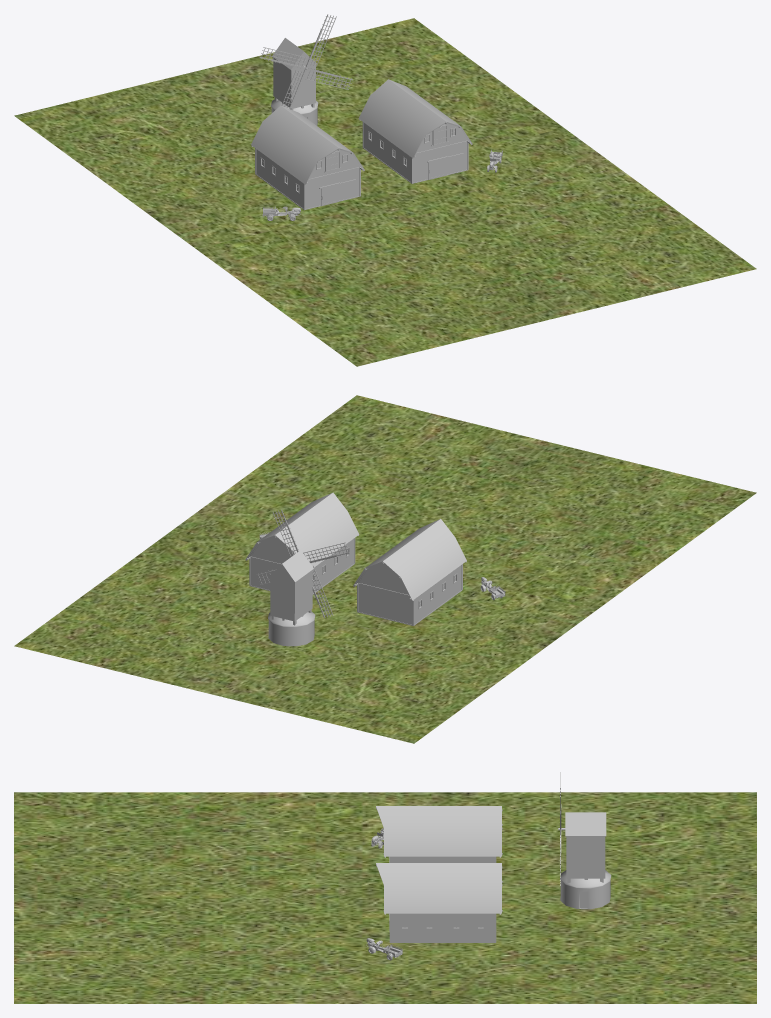
File: escenarioGranja.fbx
The picture shows the model from 3 angles, top to bottom: view 1: azimuth 30°, elevation 25°; view 2: azimuth 150°, elevation 25°; view 3: azimuth 270°, elevation 25°; orthographic projection. The views are drawn at different scales.
Parts seen in each view (by area): view 1: pPlane1, RedBarn16, RedBarn15, windmill:WindMill; view 2: pPlane1, RedBarn15, RedBarn16, windmill:WindMill; view 3: pPlane1, RedBarn16, RedBarn15, windmill:WindMill, Patpat_Direksiyon1.
Boxes of the visible parts, x1,y1,x2,y2 form: pPlane1: (14,18,756,366); RedBarn16: (358,79,472,183); RedBarn15: (251,105,364,210); windmill:WindMill: (259,14,352,125); pPlane1: (14,395,756,743); RedBarn15: (353,519,466,625); RedBarn16: (245,492,359,594); windmill:WindMill: (256,509,349,646); pPlane1: (14,792,756,1003); RedBarn16: (376,863,502,942); RedBarn15: (376,806,502,862); windmill:WindMill: (558,772,611,909); Patpat_Direksiyon1: (366,938,402,960).
Bounding box in the file's own units: 921 × 251 × 1367.
